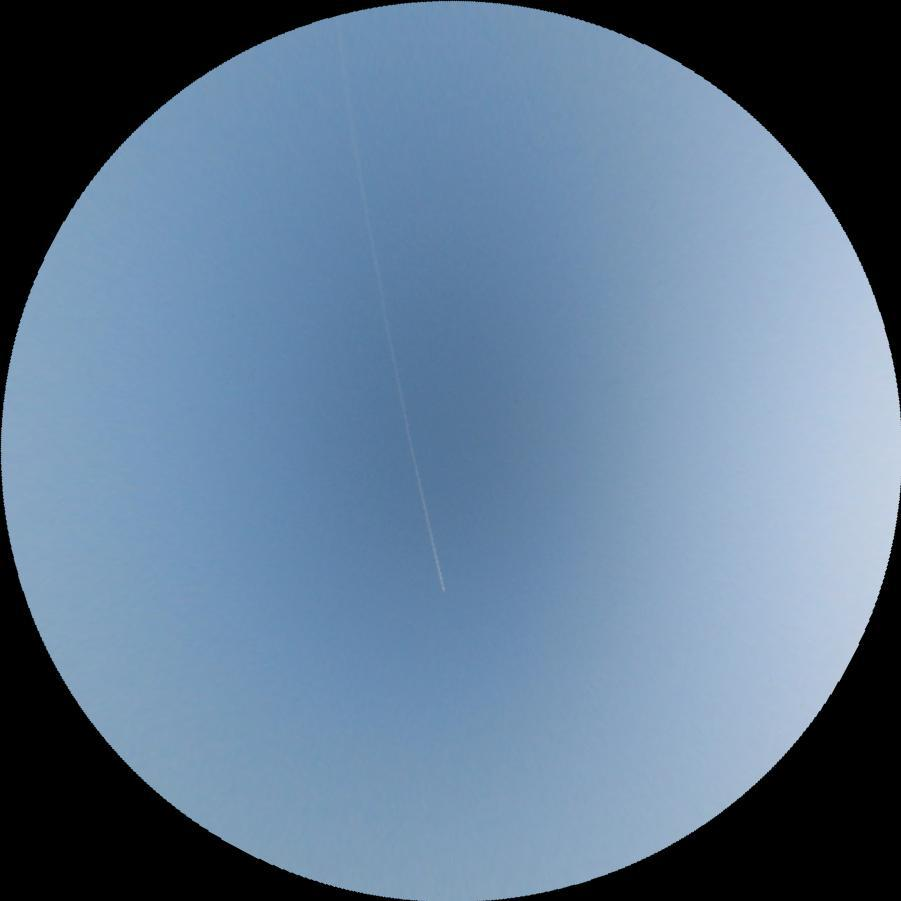contrail young: (327, 15, 444, 594)
